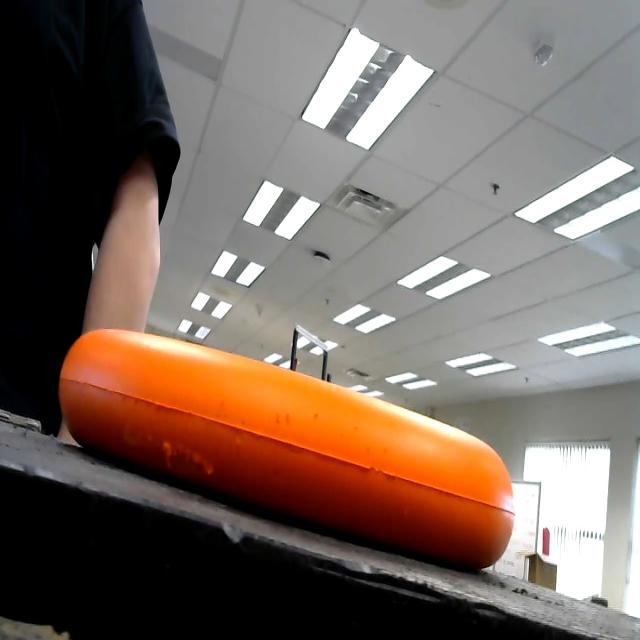note: (52, 307, 530, 600)
